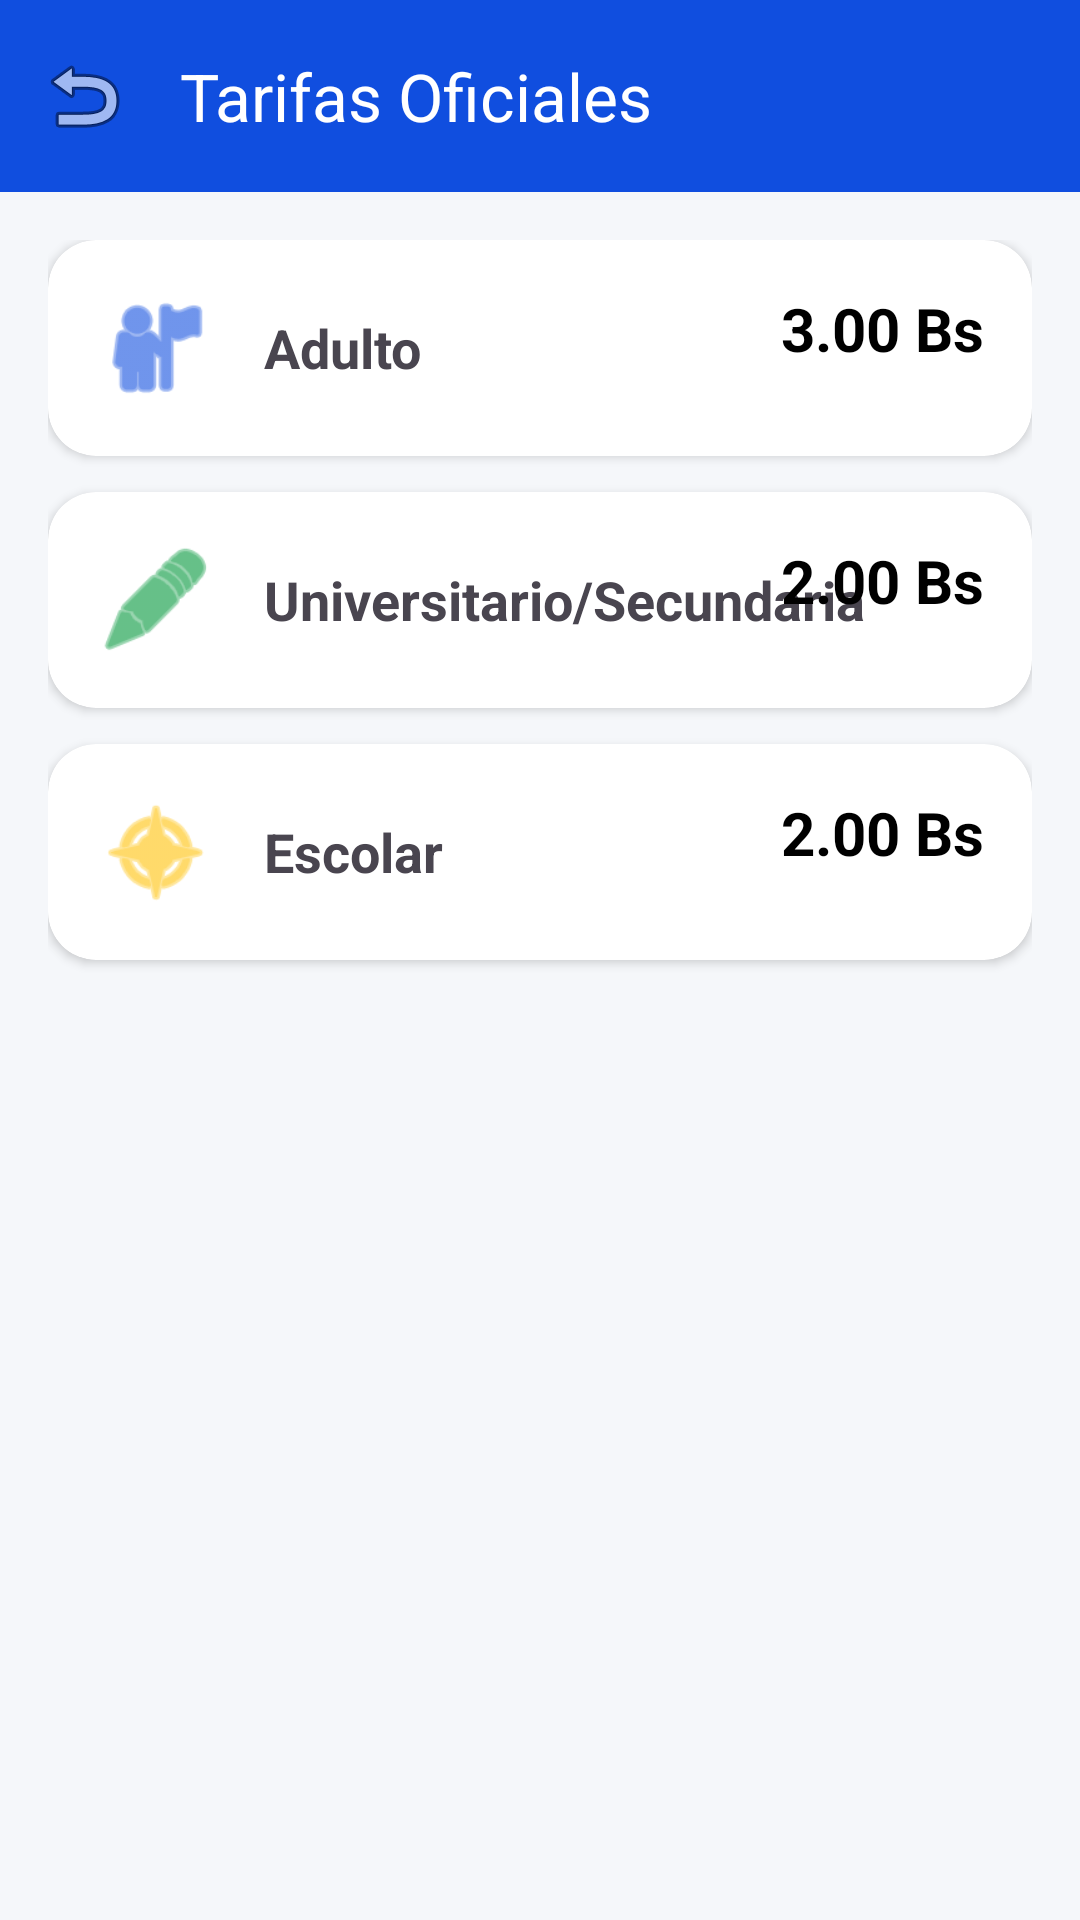

Point at icon controls on the screen. Image size 1080×1920, points as [x,y].
compass: [155,852]
edit: [155,599]
